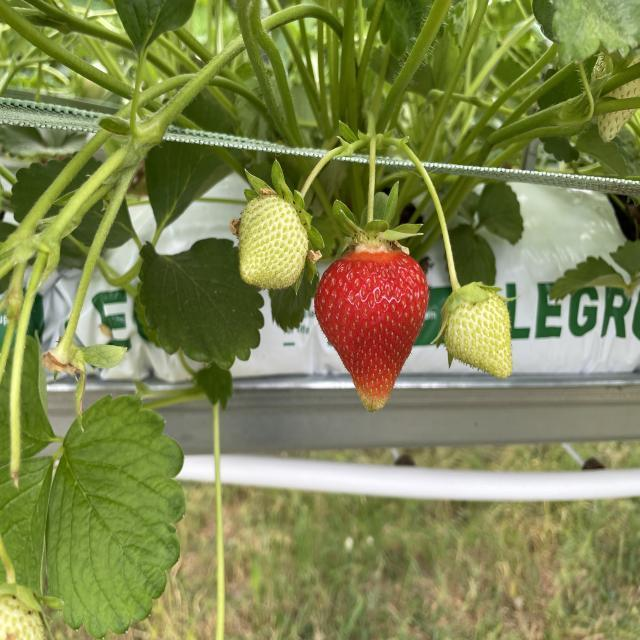stem: (400, 141, 498, 328), (336, 135, 420, 256), (272, 140, 364, 249), (246, 175, 270, 198)
strawberryNR: (240, 194, 309, 289), (444, 288, 512, 377)
strawberryR: (315, 248, 429, 411)
